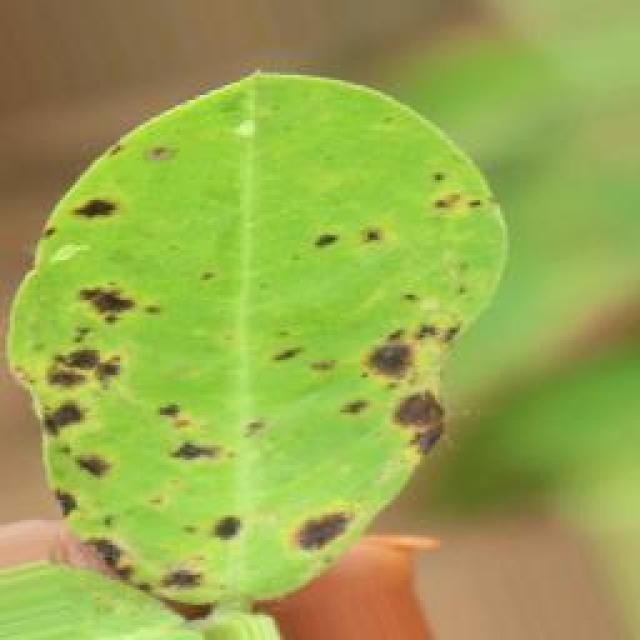Yellowish: (6, 102, 497, 636)
